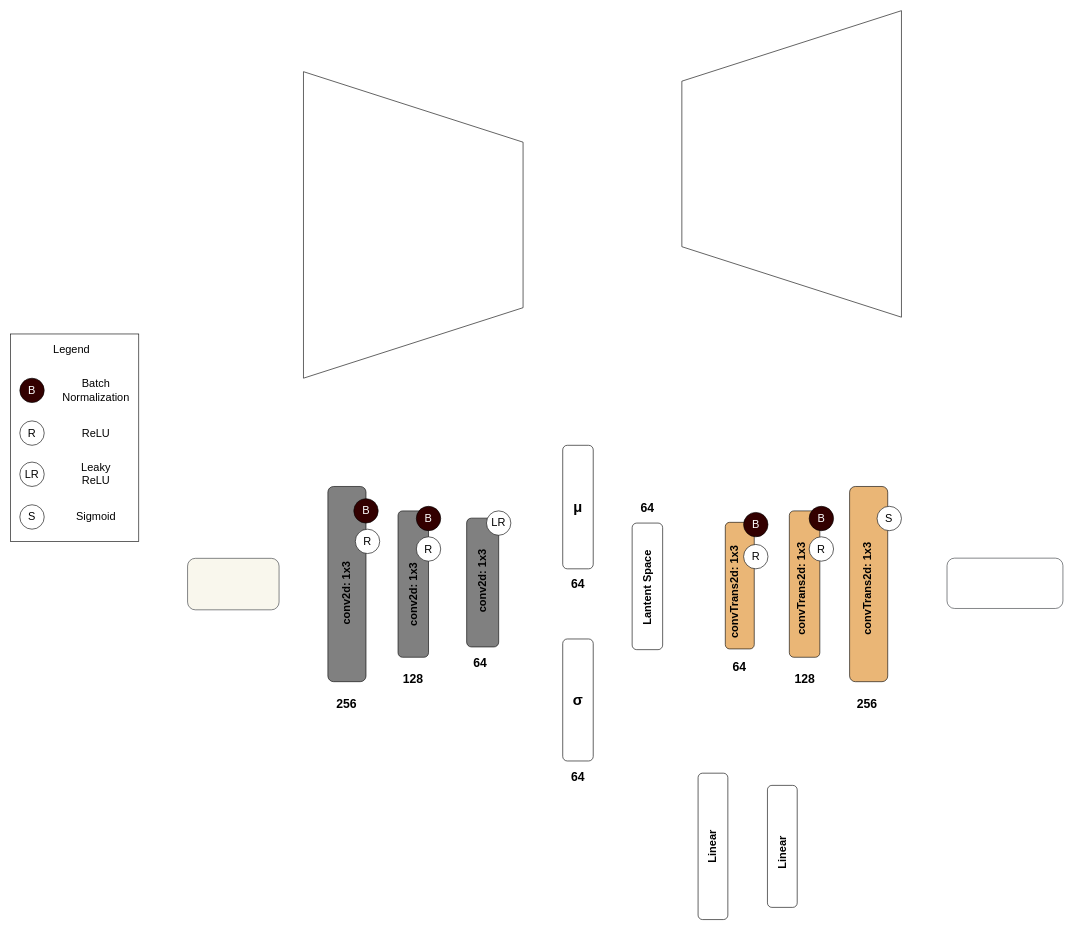
The diagram is 1074 pixels wide and 930 high, and some of its shapes have lost their labels. The shapes that lost their labels are listed below. From the top down, each one's box as (x1, y1, x2, y2) in pixels, then its label:
(187, 558, 279, 610): Input
(946, 558, 1063, 608): Reconstructed Input
